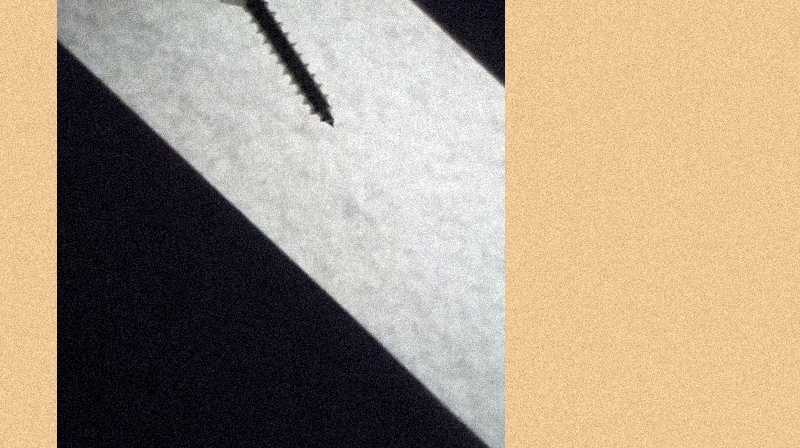S001: (215, 0, 339, 129)
